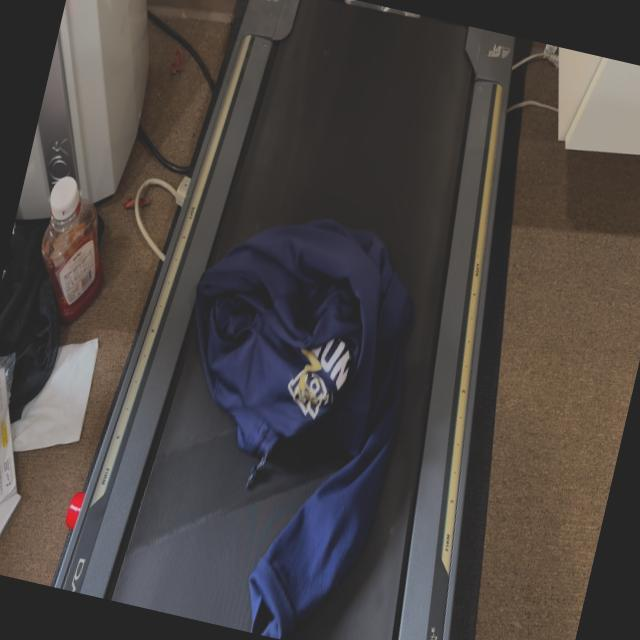Trash: (121, 192, 447, 640)
